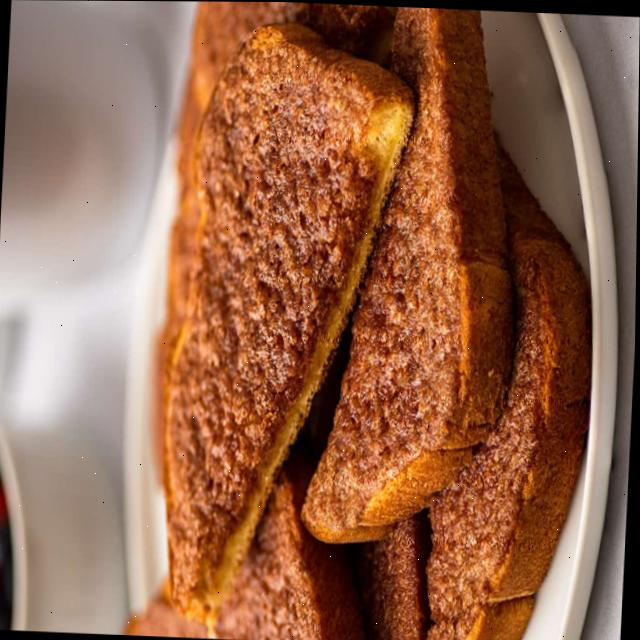Bread: (166, 25, 414, 617), (304, 6, 514, 541)
